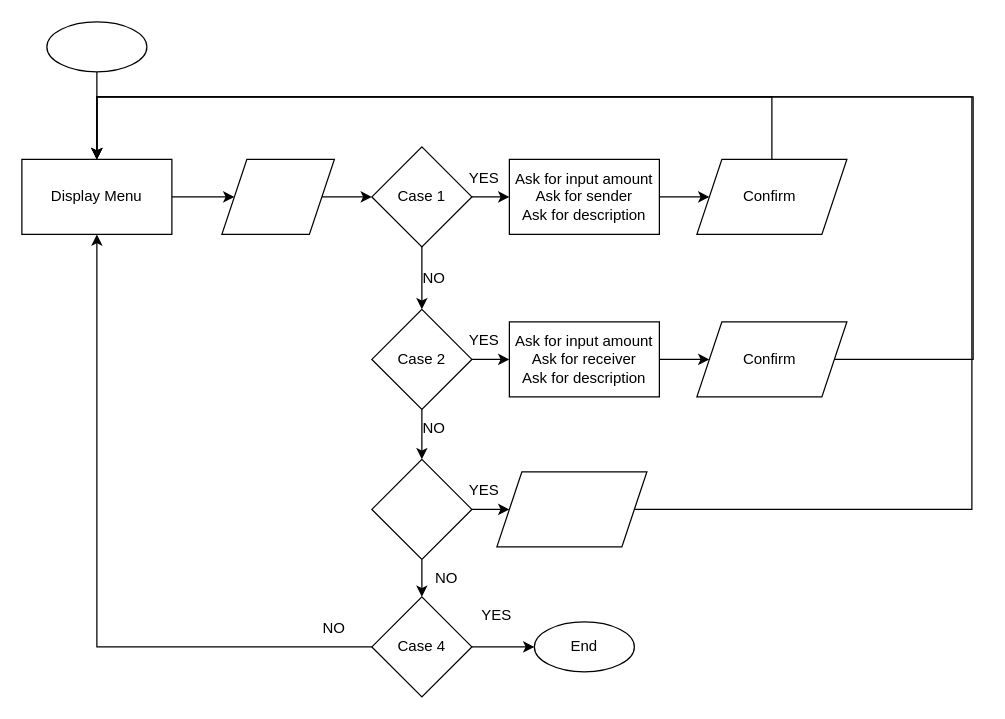
The diagram is 1005 pixels wide and 719 high, and some of its shapes have lost their labels. The centre of each missing label's shape, as x and y in pixels:
"Case 3" belongs at [421,508].
"Display balance" belongs at [571,509].
"Start" belongs at [96,46].
"User Input" belongs at [277,196].
